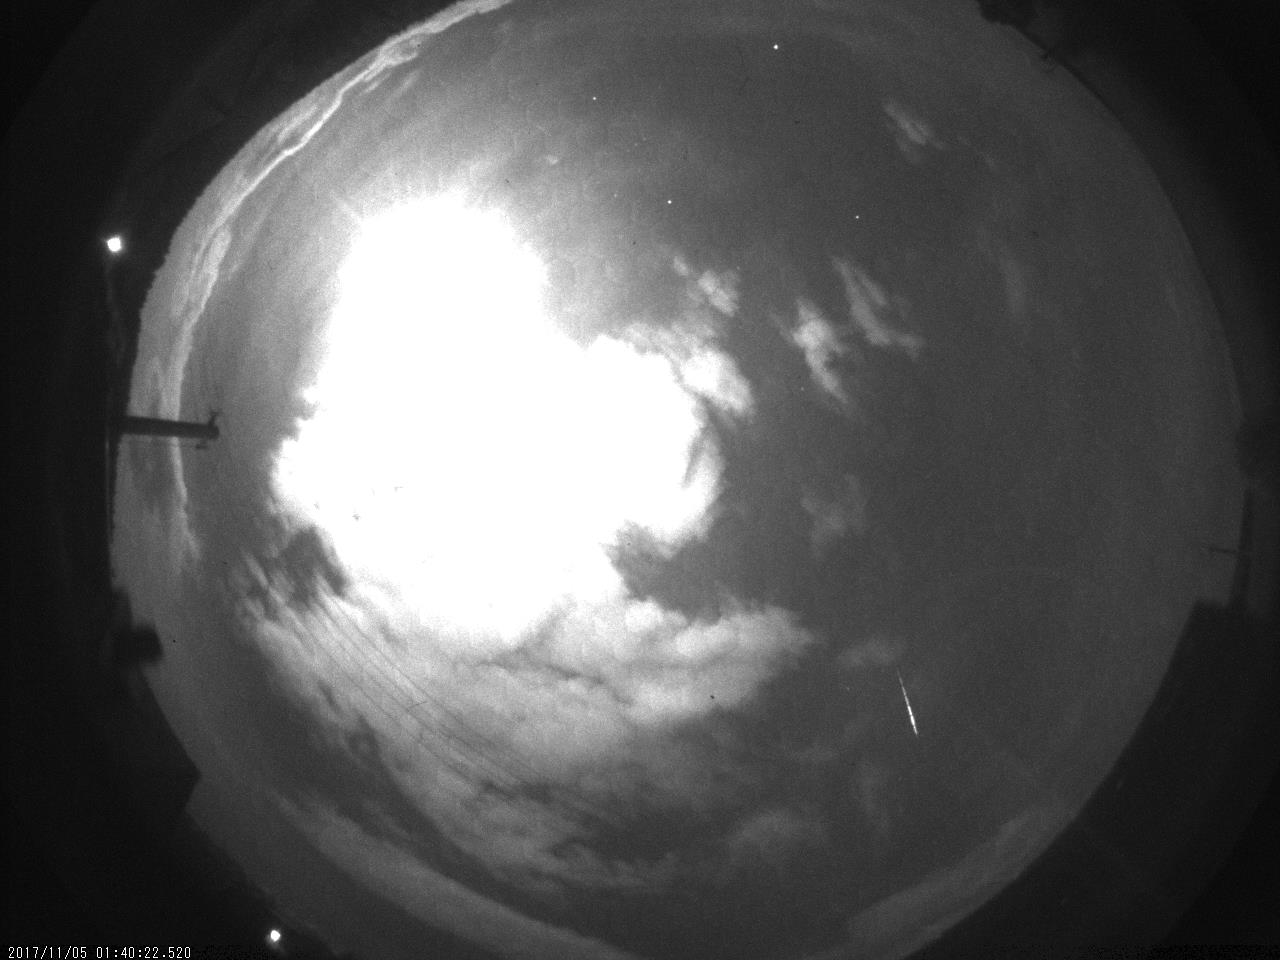meteor: (887, 658, 926, 744)
